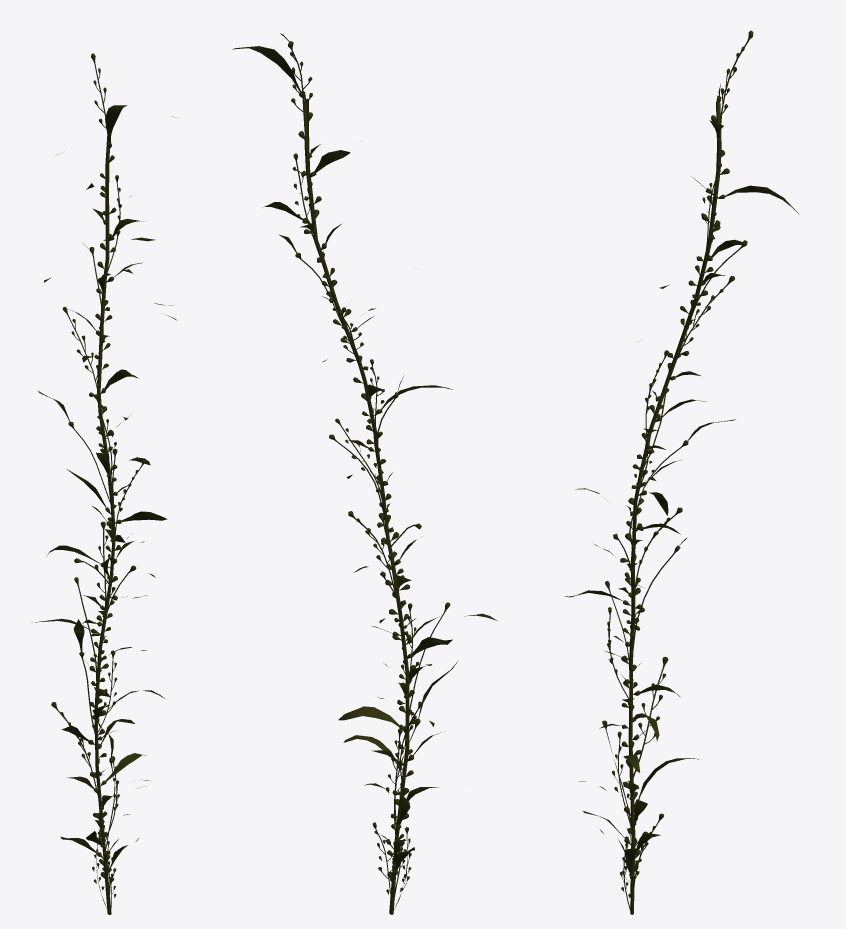
The model's file is SM_ocean_Kelp_bending_02.fbx.
3 renders of one model, left to right at view 1: azimuth 30°, elevation 25°; view 2: azimuth 150°, elevation 25°; view 3: azimuth 270°, elevation 25°, orthographic. The views are drawn at different scales.
Visible parts, largest first — view 1: SM_ocean_Kelp_bending_02_LOD0; view 2: SM_ocean_Kelp_bending_02_LOD0; view 3: SM_ocean_Kelp_bending_02_LOD0.
Boxes of the visible parts, x1,y1,x2,y2 form: SM_ocean_Kelp_bending_02_LOD0: (31, 53, 177, 914); SM_ocean_Kelp_bending_02_LOD0: (232, 33, 497, 914); SM_ocean_Kelp_bending_02_LOD0: (564, 30, 799, 914).
Size of what is drawn, in the model's own units: 360 by 414 by 1421.
